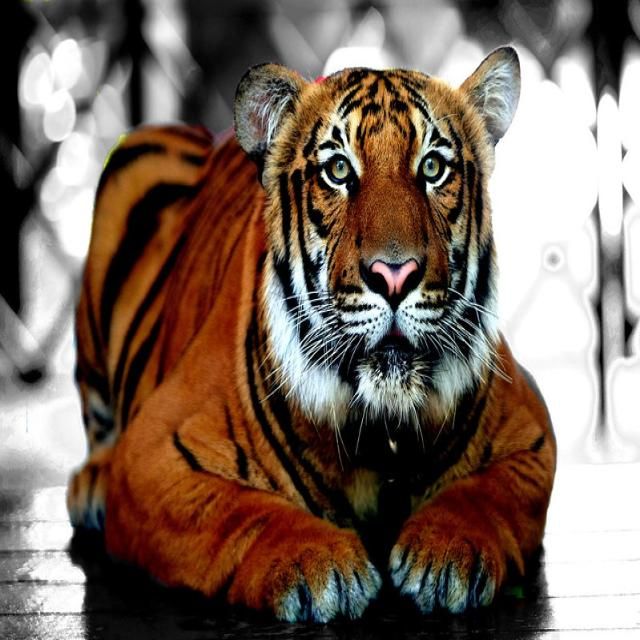Tiger: (64, 45, 558, 630)
